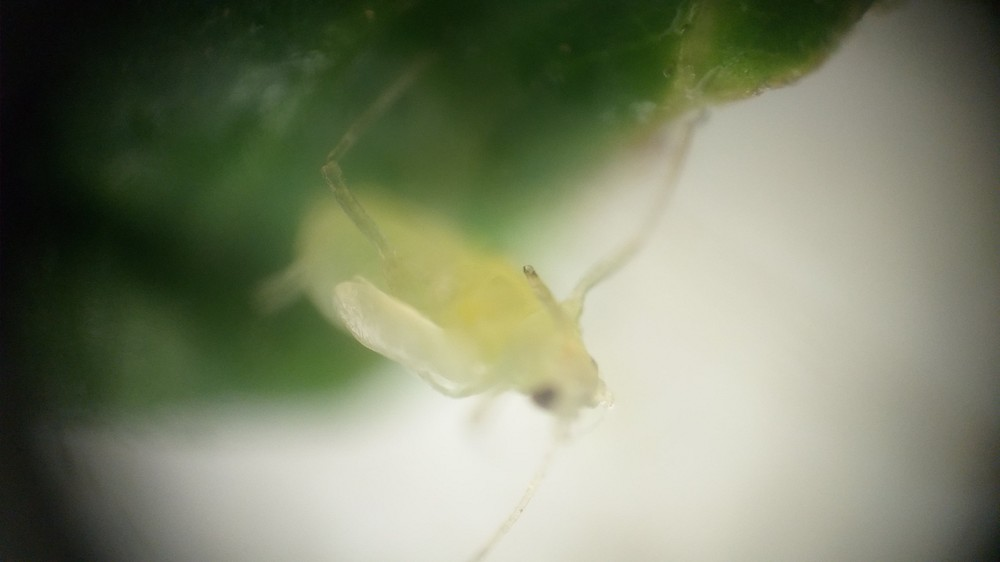Pulgon: (252, 71, 754, 540)
